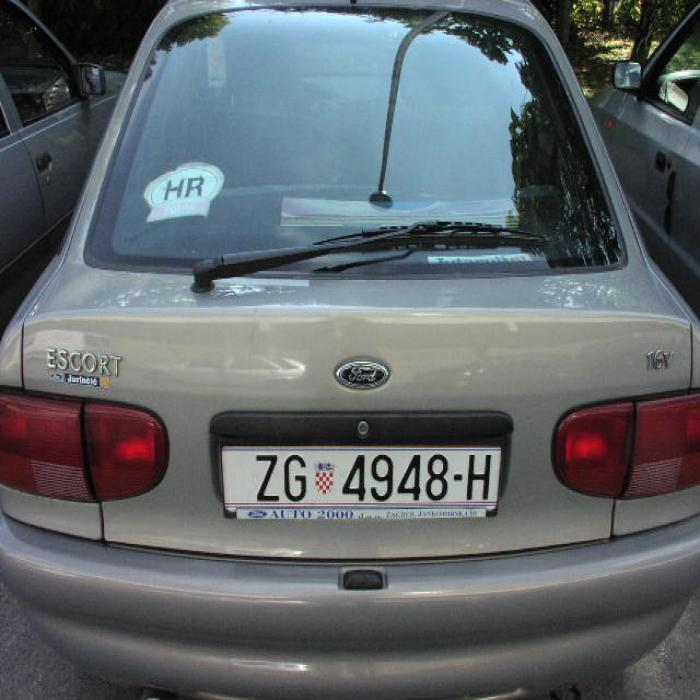number_plate: (220, 446, 496, 503)
